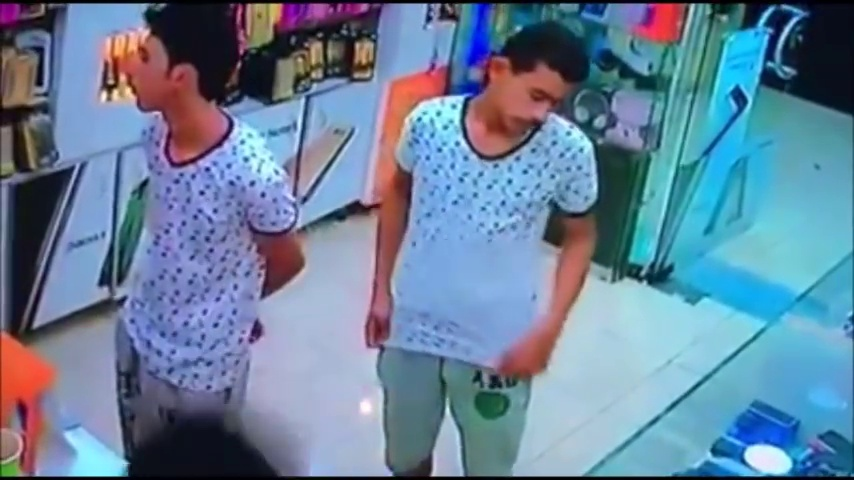face: (491, 68, 565, 137), (117, 37, 180, 114)
